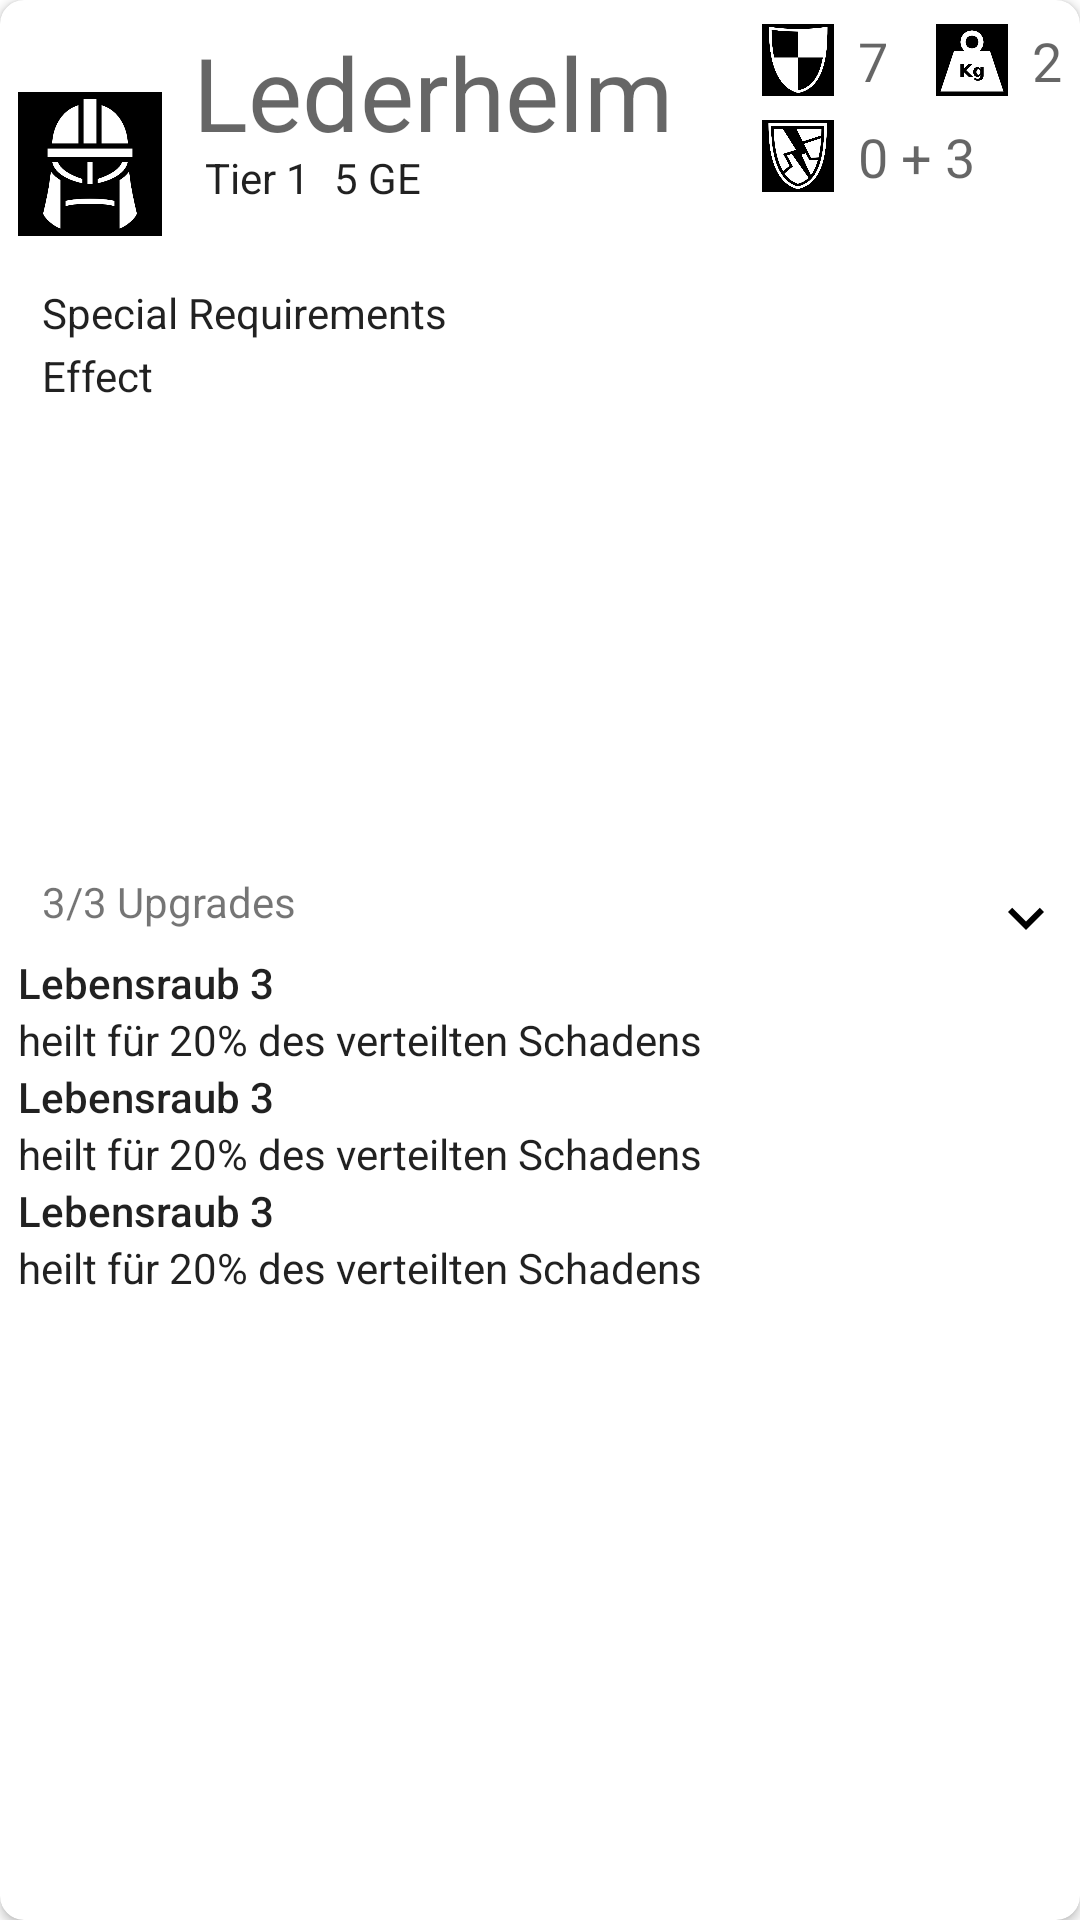

Named icons in this screenshot (1080 x 1920) and their centers, (x,y):
broken shield: (798,156)
checked shield: (798,60)
expand more: (1026,919)
weight: (972,60)
